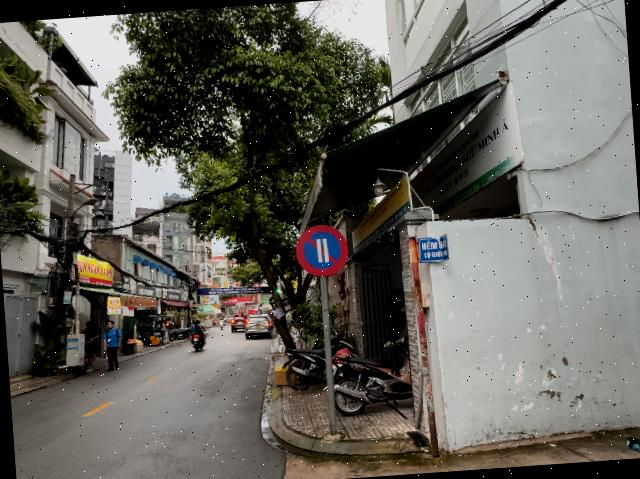cam-do-xe-ngay-chan: (295, 222, 349, 278)
